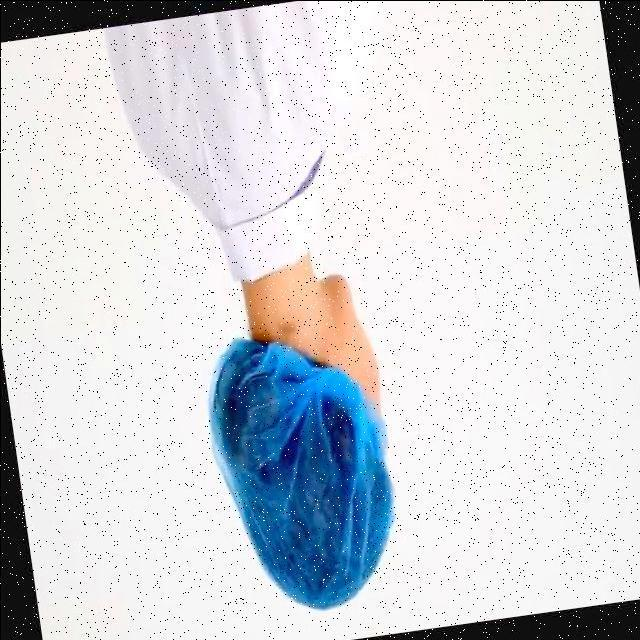gloves: (228, 336, 378, 618)
